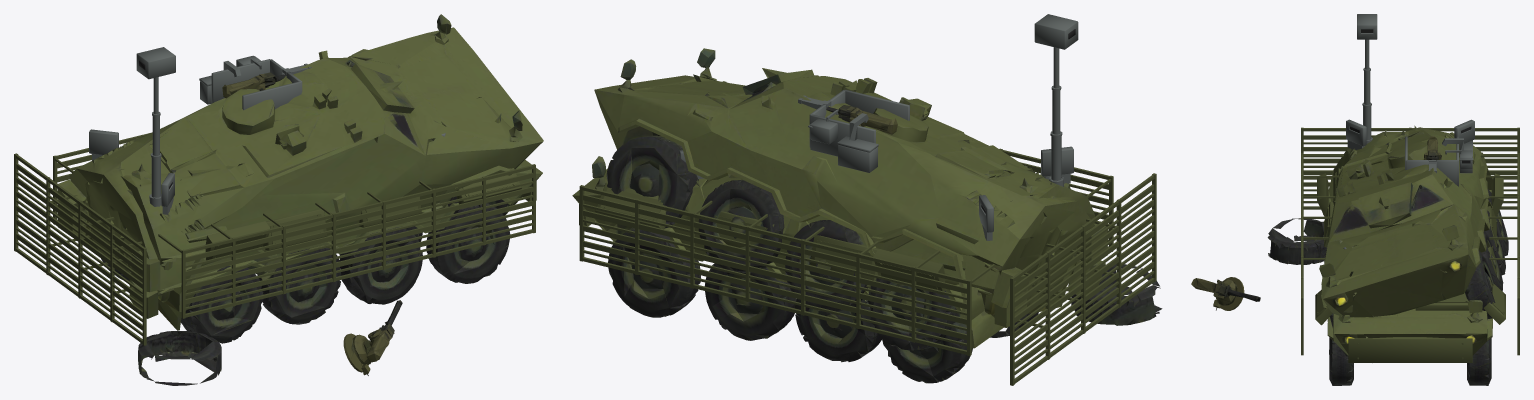
The model's file is apc_eitan.glb.
The picture shows the model from 3 angles, left to right: view 1: azimuth 30°, elevation 25°; view 2: azimuth 150°, elevation 25°; view 3: azimuth 270°, elevation 25°; orthographic projection. The views are drawn at different scales.
Visible parts, largest first — view 1: WRECK_hull_hull, kit_armour_3_hull_hull_far, hull_rubber, kit_armour_3_hull_hull, kit_armour_3_hull_hull_near, hull_hull, WRECK_hull_rubber, kit_armour_2_hull_hull, kit_firepower_3_turret_metal, kit_sensors_3_hull_hull, WRECK_turret_metal, kit_sensors_2_hull_hull (+2 smaller); view 2: WRECK_hull_hull, WRECK_hull_rubber, kit_armour_3_hull_hull_far, hull_rubber, kit_armour_3_hull_hull, kit_armour_3_hull_hull_near, hull_hull, kit_armour_2_hull_hull, kit_sensors_3_hull_hull, kit_firepower_3_turret_metal, kit_firepower_2_turret_metal, kit_sensors_2_hull_hull (+1 smaller); view 3: WRECK_hull_hull, hull_hull, WRECK_hull_rubber, kit_armour_1_hull_hull, kit_armour_3_hull_hull, kit_armour_2_hull_hull, hull_rubber, kit_armour_3_hull_hull_far, kit_sensors_3_hull_hull, kit_armour_3_hull_hull_near, WRECK_turret_metal, kit_sensors_2_hull_hull (+3 smaller).
Part boxes in pixels (x1,y1,x2,y2): WRECK_hull_hull: (57, 14, 543, 331); kit_armour_3_hull_hull_far: (16, 154, 533, 330); hull_rubber: (193, 198, 512, 343); kit_armour_3_hull_hull: (14, 133, 535, 345); kit_armour_3_hull_hull_near: (16, 158, 533, 335); hull_hull: (58, 157, 542, 343); WRECK_hull_rubber: (138, 165, 511, 385); kit_armour_2_hull_hull: (205, 168, 521, 260); kit_firepower_3_turret_metal: (211, 59, 302, 110); kit_sensors_3_hull_hull: (136, 47, 175, 206); WRECK_turret_metal: (343, 300, 402, 374); kit_sensors_2_hull_hull: (89, 129, 445, 214); WRECK_hull_hull: (594, 48, 1105, 350); WRECK_hull_rubber: (606, 118, 1162, 349); kit_armour_3_hull_hull_far: (583, 162, 1154, 368); hull_rubber: (605, 223, 960, 383); kit_armour_3_hull_hull: (579, 81, 1156, 385); kit_armour_3_hull_hull_near: (583, 169, 1154, 374); hull_hull: (572, 145, 1107, 383); kit_armour_2_hull_hull: (595, 182, 945, 294); kit_sensors_3_hull_hull: (1034, 14, 1078, 186); kit_firepower_3_turret_metal: (809, 90, 909, 156); kit_firepower_2_turret_metal: (798, 95, 878, 172); kit_sensors_2_hull_hull: (679, 146, 1073, 240); WRECK_hull_hull: (1319, 125, 1492, 317); hull_hull: (1328, 129, 1492, 355); WRECK_hull_rubber: (1267, 189, 1508, 356); kit_armour_1_hull_hull: (1348, 293, 1472, 362); kit_armour_3_hull_hull: (1301, 127, 1519, 355); kit_armour_2_hull_hull: (1315, 173, 1505, 325); hull_rubber: (1327, 317, 1492, 385); kit_armour_3_hull_hull_far: (1303, 135, 1517, 198); kit_sensors_3_hull_hull: (1357, 14, 1377, 143); kit_armour_3_hull_hull_near: (1303, 137, 1517, 203); WRECK_turret_metal: (1210, 277, 1260, 310); kit_sensors_2_hull_hull: (1343, 119, 1474, 249).
Size of the model in its own units: 7.6 by 5.16 by 6.08.
1 material, 1 textured.
